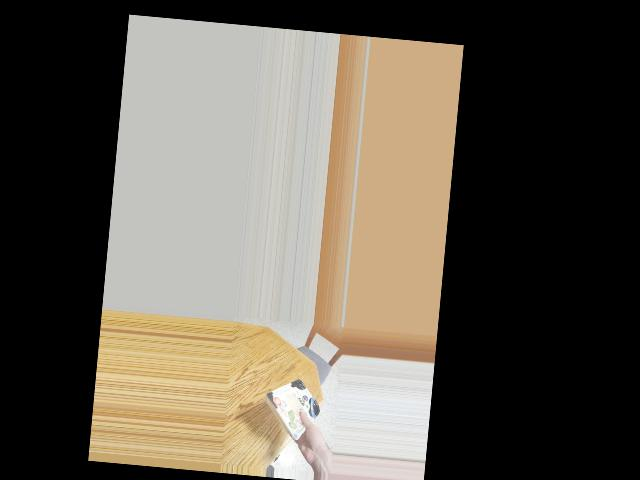cheese: (267, 376, 316, 433)
